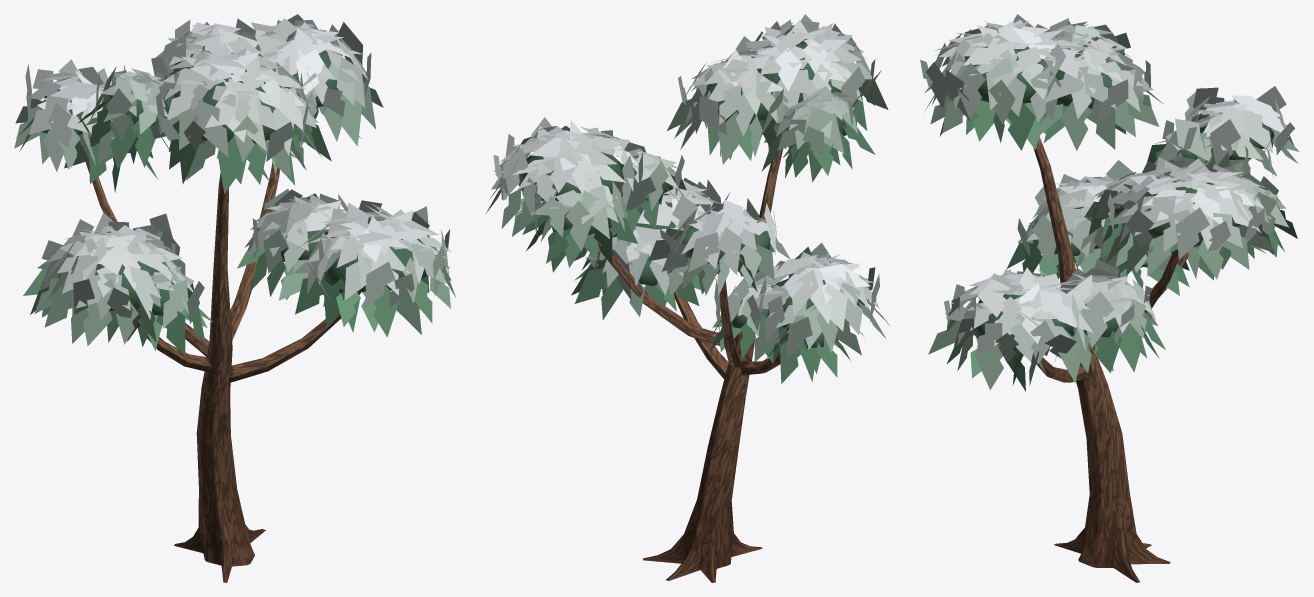
Rendered from tree_1_winter.glb.
3 views of the same model, side by side, from view 1: azimuth 30°, elevation 25°; view 2: azimuth 150°, elevation 25°; view 3: azimuth 270°, elevation 25° (orthographic). The views are drawn at different scales.
Visible parts, largest first — view 1: tree_1_winter; view 2: tree_1_winter; view 3: tree_1_winter.
Part boxes in pixels (bbox=[...]): tree_1_winter: bbox=[14, 14, 456, 582]; tree_1_winter: bbox=[486, 14, 890, 582]; tree_1_winter: bbox=[920, 14, 1299, 582].
Size of the model in its own units: 4.9 by 7 by 4.7.
2 materials, 2 textured.
